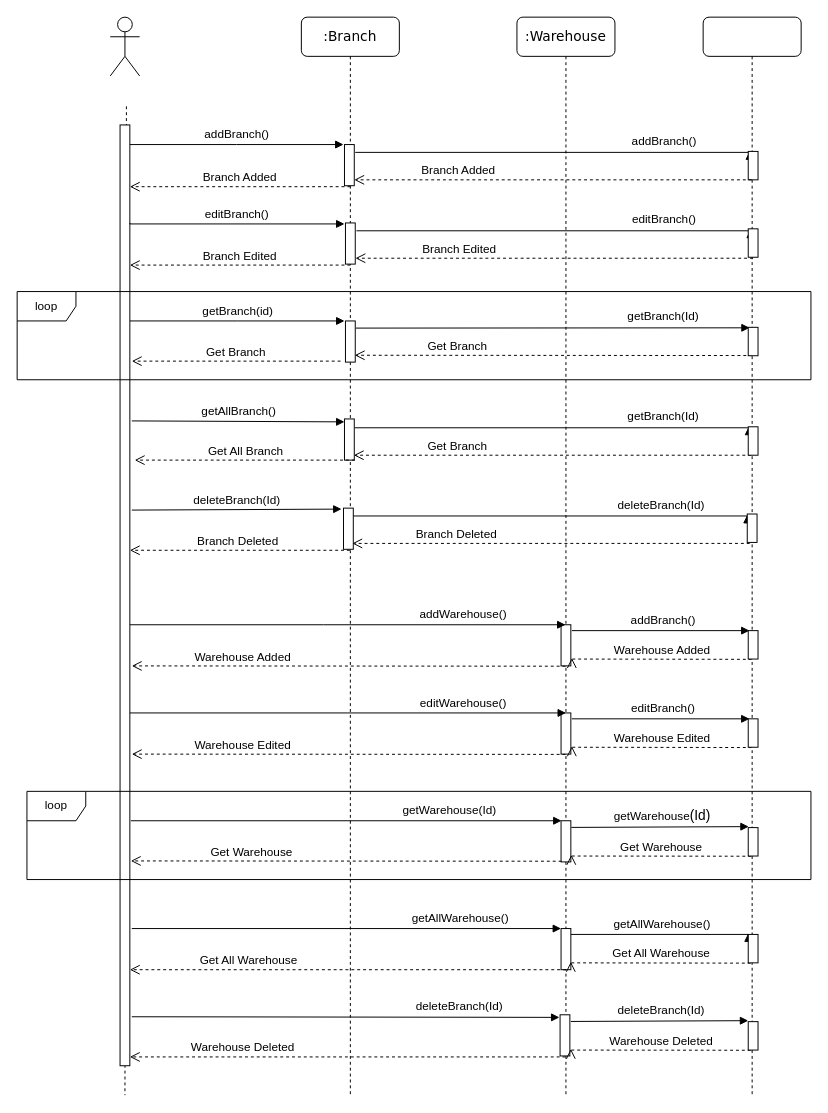
Image size: 828x1113. Some labels were removed from this diagram. The centre of each missing label's shape, as x and y in pixels:
"Admin" belongs at point 124,46.
"DATABASE" belongs at point 751,555.
